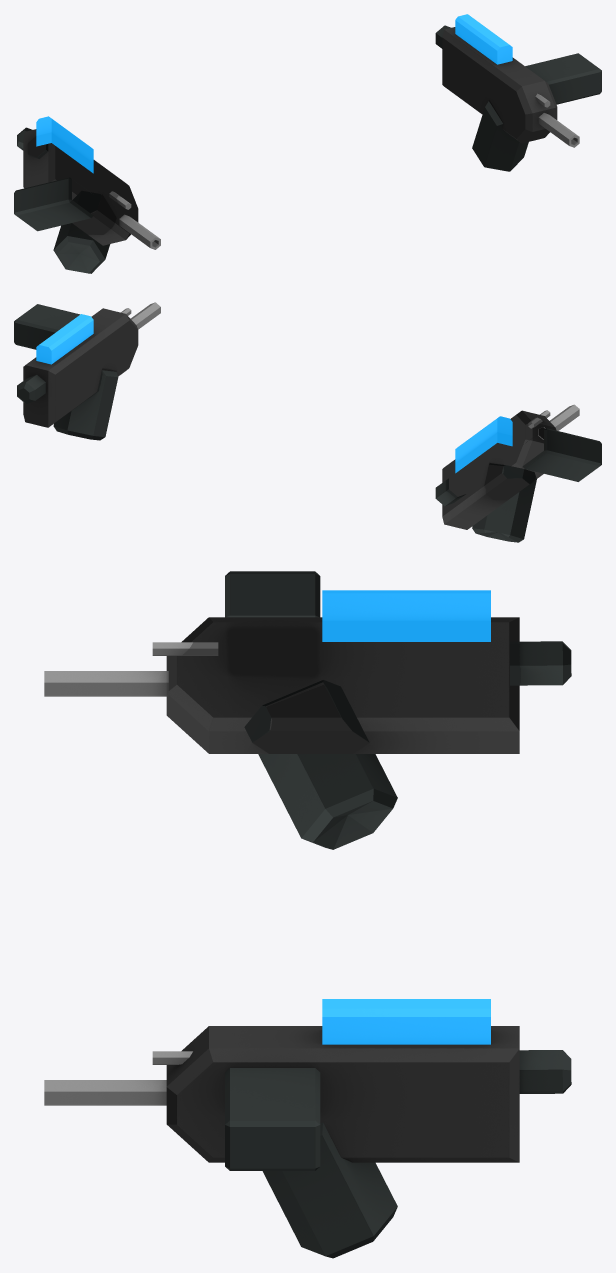
Rendered from Fly_Gun.fbx.
3 renders of one model, top to bottom at view 1: azimuth 30°, elevation 25°; view 2: azimuth 150°, elevation 25°; view 3: azimuth 270°, elevation 25°, orthographic. The views are drawn at different scales.
Parts seen in each view (by area): view 1: Fly_Gun; view 2: Fly_Gun; view 3: Fly_Gun.
Part boxes in pixels (x1,y1,x2,y2): Fly_Gun: [14, 14, 601, 273]; Fly_Gun: [14, 302, 601, 542]; Fly_Gun: [44, 571, 571, 1258].
Bounding box in the file's own units: 116 × 24.17 × 46.74.
